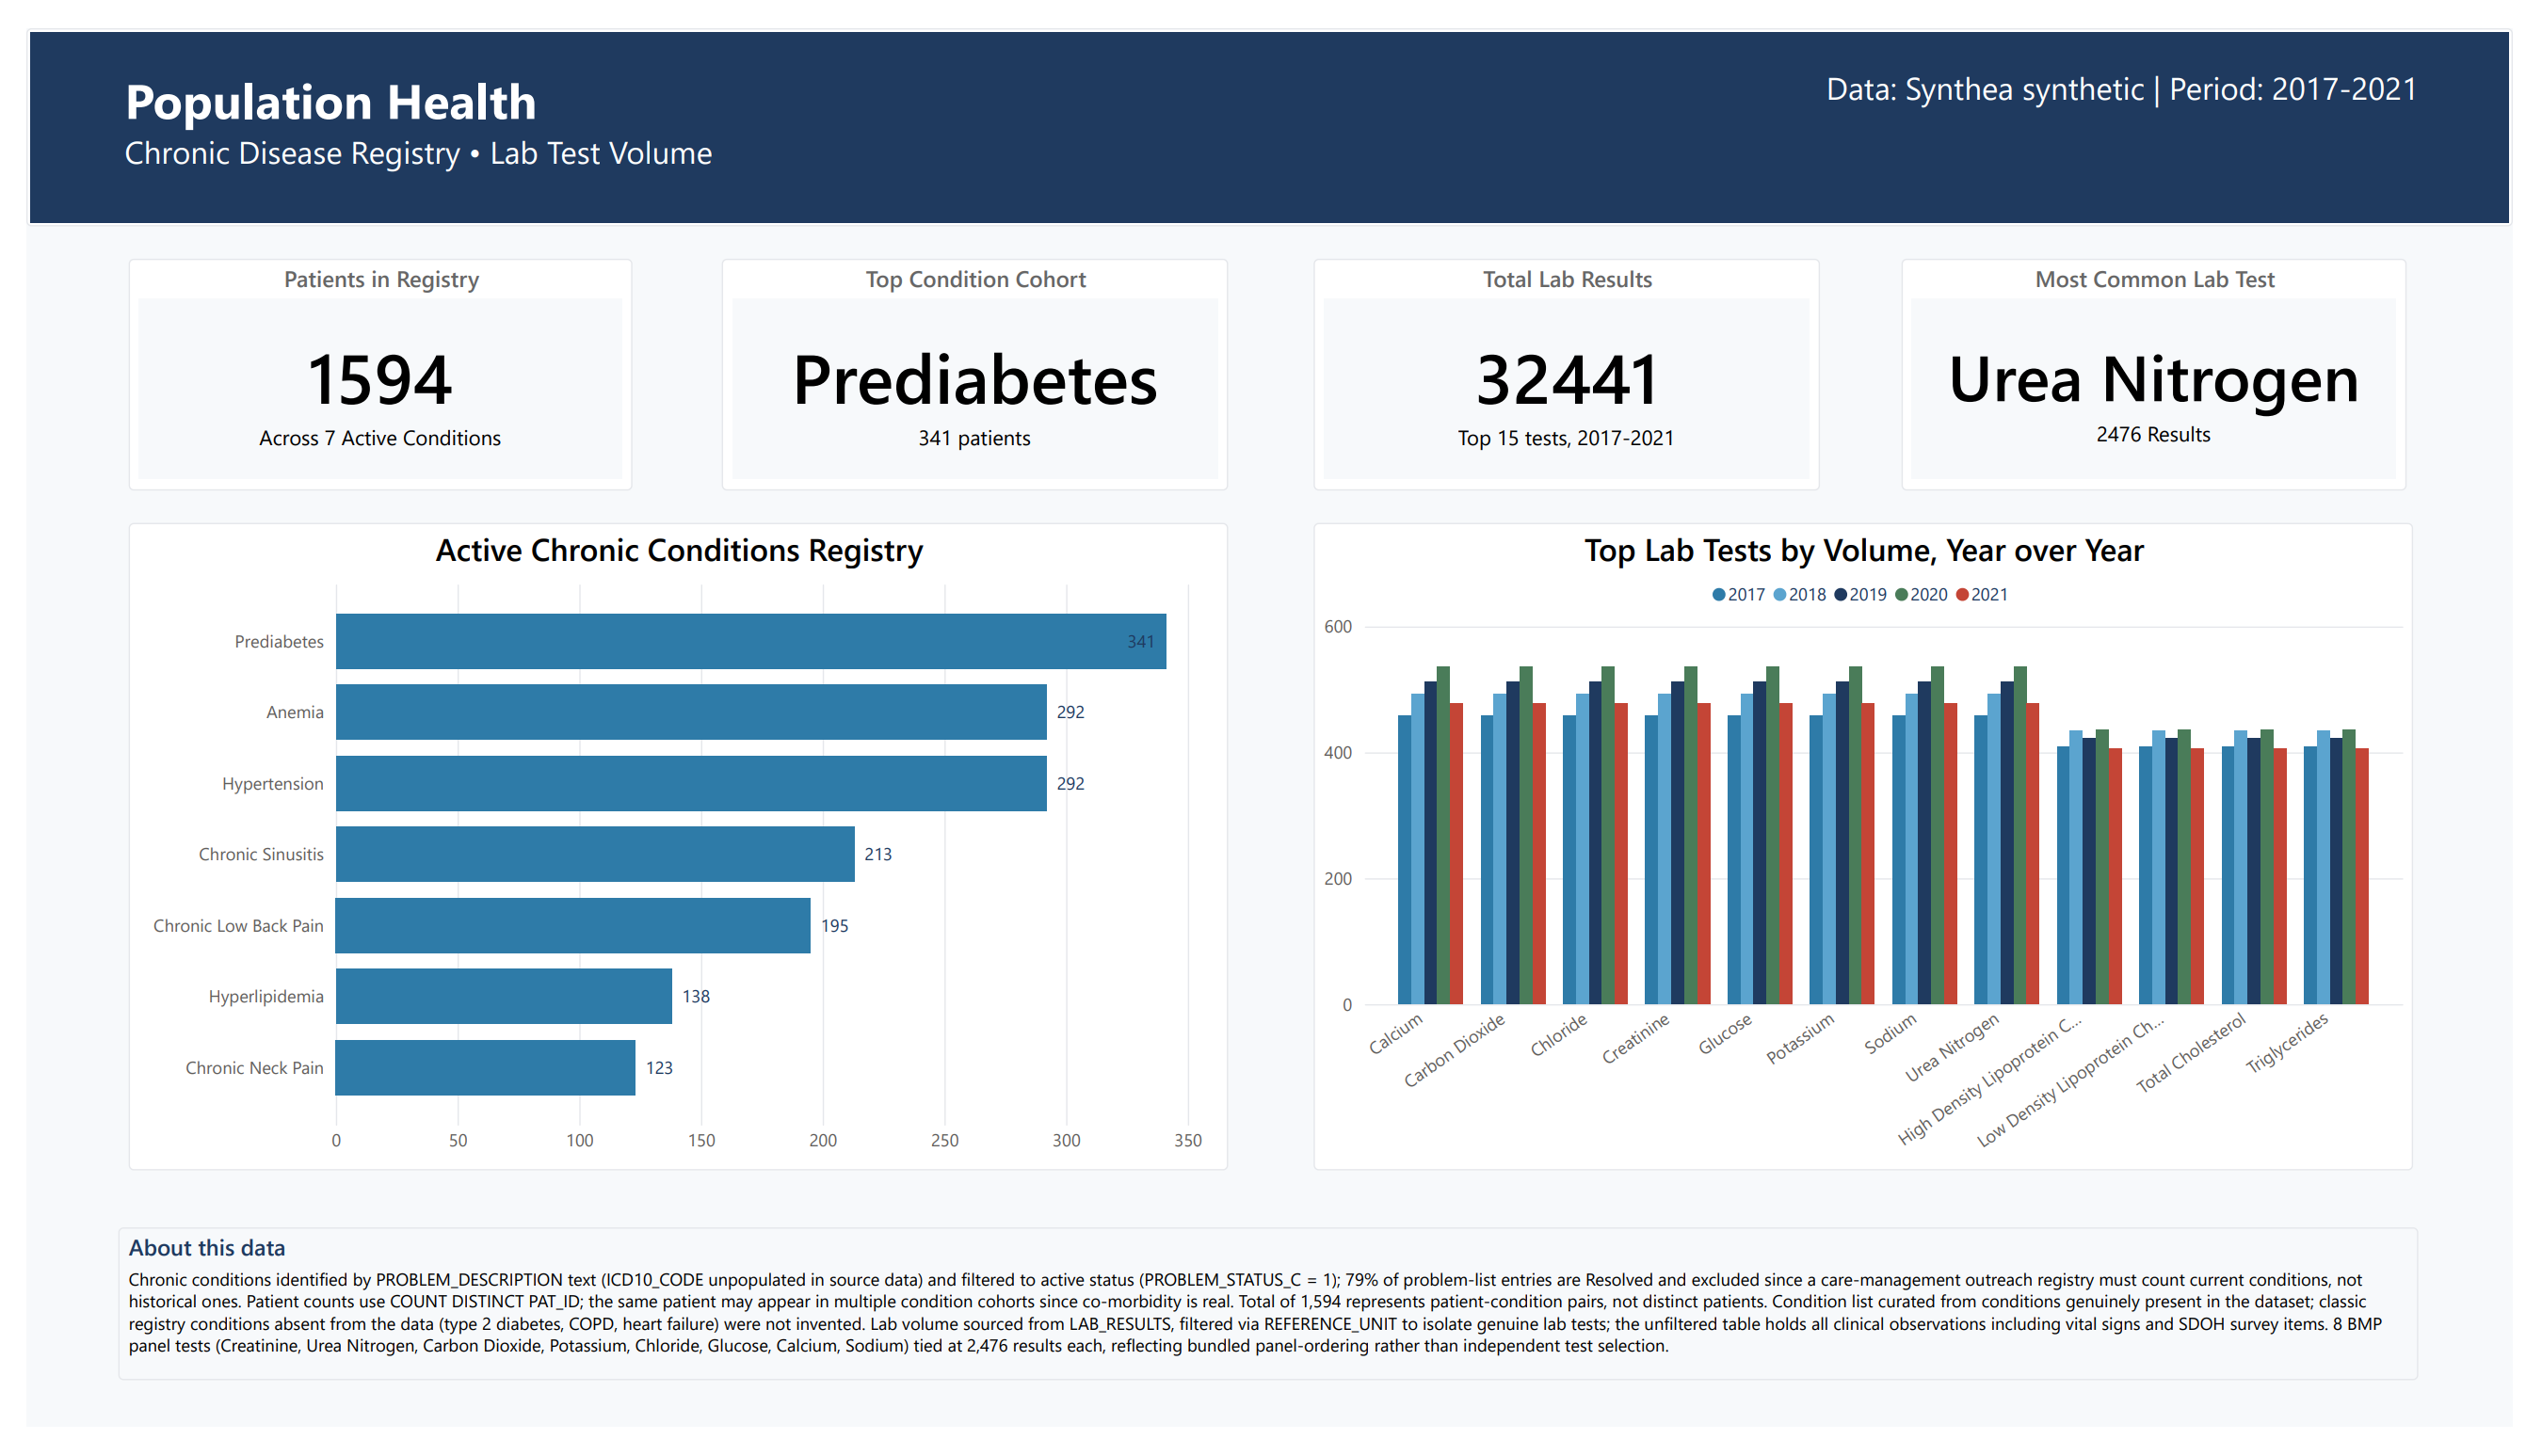

Layout of this report page (visuals, bound fields, positions):
{"tool":"powerbi","page":{"name":"Page 3","canvas":[1920,1080],"ordinal":2},"visuals":[{"type":"shape","box":[0,0,1920.4,153.2],"z":0},{"type":"textbox","box":[70.7,24.6,623.6,103.4],"z":1},{"type":"textbox","box":[1384.8,24.3,515.4,94.6],"z":2},{"type":"cardVisual","title":"Patients in Registry","fields":{"Data":["Sum(Report_04_Chronic_Disease_Registry.Patients in Cohort)"]},"box":[78.8,178.3,389.2,178.3],"z":3},{"type":"cardVisual","title":"Top Condition Cohort","fields":{"Data":["Report_04_Chronic_Disease_Registry.Top Chronic Condition"]},"box":[537.2,178.3,390.5,178.3],"z":4},{"type":"cardVisual","title":"Total Lab Results","fields":{"Data":["Sum(Report_05_Lab_Volume.Total Results 2017-2021)"]},"box":[994.3,178.3,390.5,178.3],"z":5},{"type":"cardVisual","title":"Most Common Lab Test","fields":{"Data":["Report_05_Lab_Volume.Top Lab Test"]},"box":[1447.9,178.3,390.5,178.3],"z":6},{"type":"clusteredBarChart","title":"Active Chronic Conditions Registry","fields":{"Category":["Report_04_Chronic_Disease_Registry.Chronic Condition"],"Y":["Sum(Report_04_Chronic_Disease_Registry.Patients in Cohort)"]},"box":[78.8,382,848.8,499.6],"z":7},{"type":"clusteredColumnChart","title":"Top Lab Tests by Volume, Year over Year","fields":{"Category":["Report_05_Lab_Volume.Lab Test"],"Y":["Sum(Report_05_Lab_Volume.2017)","Sum(Report_05_Lab_Volume.2018)","Sum(Report_05_Lab_Volume.2019)","Sum(Report_05_Lab_Volume.2020)","Sum(Report_05_Lab_Volume.2021)"]},"box":[994.3,382,848.8,499.6],"z":8},{"type":"textbox","title":"About this data","box":[71.3,925.9,1775.7,118.5],"z":9}]}

Visuals, with their boxes in screenshot pixels (x1, y1, x2, y2), scaled from the page's 1920x1080 canvas onto the 2542x1456 screenshot:
shape: locate(0, 0, 2541, 206)
textbox: locate(93, 33, 919, 172)
textbox: locate(1833, 33, 2516, 160)
"Patients in Registry" cardVisual: locate(105, 240, 619, 481)
"Top Condition Cohort" cardVisual: locate(711, 240, 1229, 481)
"Total Lab Results" cardVisual: locate(1316, 240, 1833, 481)
"Most Common Lab Test" cardVisual: locate(1917, 240, 2434, 481)
"Active Chronic Conditions Registry" clusteredBarChart: locate(105, 515, 1228, 1189)
"Top Lab Tests by Volume, Year over Year" clusteredColumnChart: locate(1316, 515, 2440, 1189)
"About this data" textbox: locate(94, 1248, 2445, 1408)
